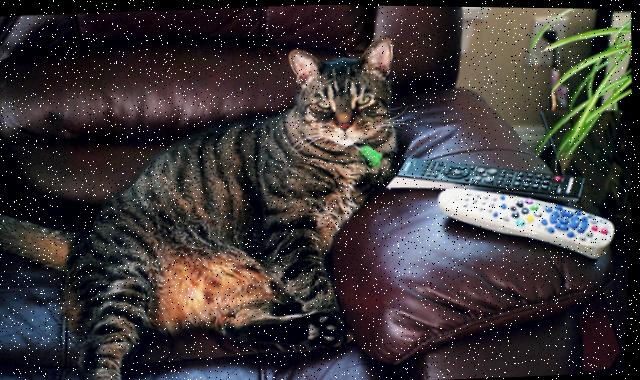cat: (49, 44, 375, 371)
